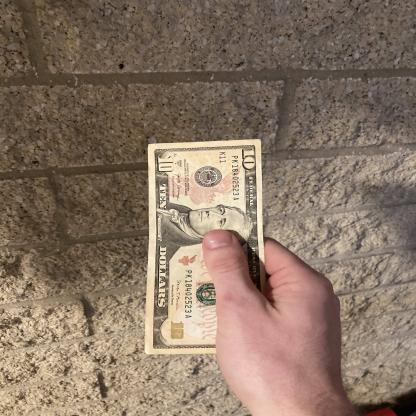ten-front: (144, 138, 266, 354)
